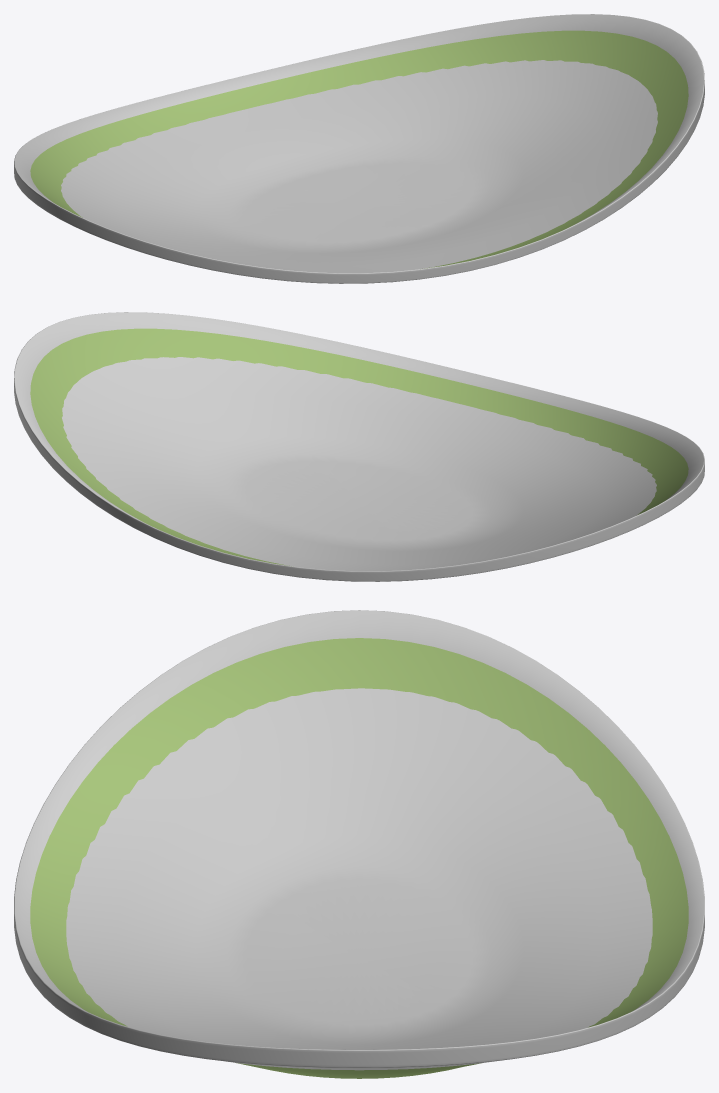
The model's file is FruitBowl_501.gltf.
3 views of the same model, one above another, from view 1: azimuth 30°, elevation 25°; view 2: azimuth 150°, elevation 25°; view 3: azimuth 270°, elevation 25° (orthographic). The views are drawn at different scales.
Visible parts, largest first — view 1: node-0; view 2: node-0; view 3: node-0.
Boxes of the visible parts, box(x1,y1,x2,y2) form: node-0: box(14, 14, 704, 283); node-0: box(14, 312, 704, 581); node-0: box(14, 610, 704, 1078).
Bounding box in the file's own units: 93.48 × 12.66 × 61.95.
